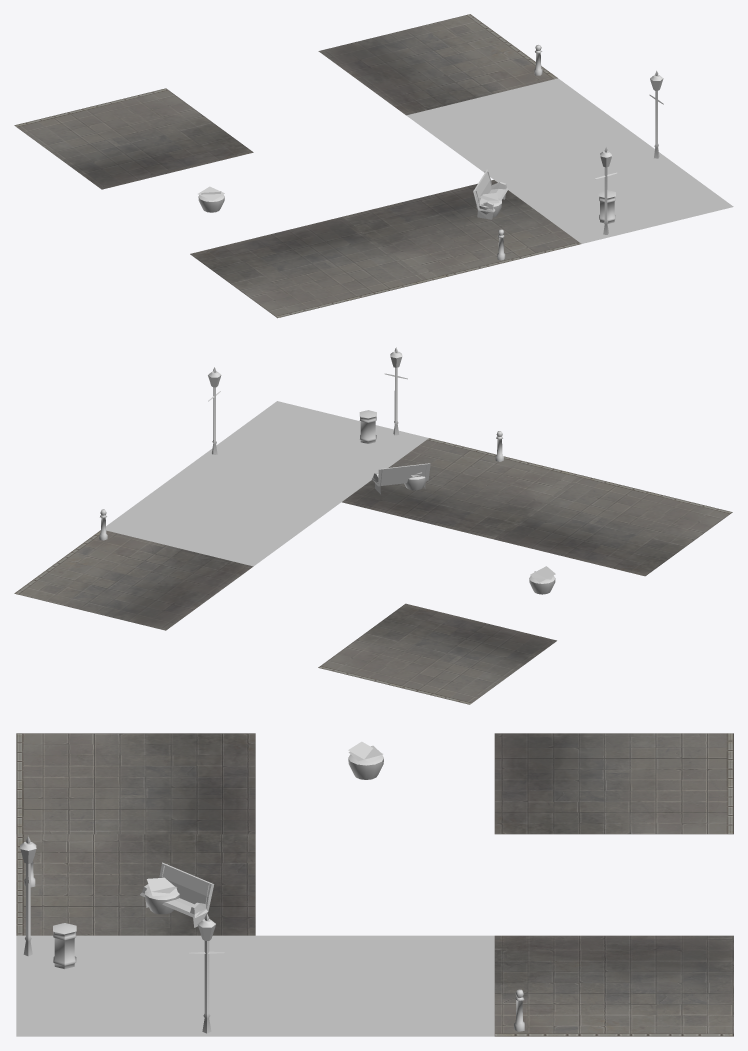
Rendered from propsonly_c1.gltf.
3 views of the same model, one above another, from view 1: azimuth 30°, elevation 25°; view 2: azimuth 150°, elevation 25°; view 3: azimuth 270°, elevation 25° (orthographic). The views are drawn at different scales.
Visible parts, largest first — view 1: file_c1_endl.002, file_c1_endl.001, file_c1_center.001, file_c1_endr.001, file_c1_corner3.001, file_c1_center3.002, prop_bench_c1, prop_flowerpot_c1_1; view 2: file_c1_endl.002, file_c1_endl.001, file_c1_center.001, file_c1_endr.001, file_c1_corner3.001, file_c1_center3.002, prop_bench_c1; view 3: file_c1_endl.001, file_c1_center.001, file_c1_endl.002, file_c1_endr.001, file_c1_corner3.001, file_c1_center3.002, prop_bench_c1, prop_flowerpot_c1_1, prop_trashcan_c1_1, prop_lightpost_c1_2, prop_flowerpot_c1_2, prop_lightpost_c1_1.
Boxes of the visible parts, x1,y1,x2,y2 form: file_c1_endl.002: [14, 88, 253, 189]; file_c1_endl.001: [190, 217, 429, 318]; file_c1_center.001: [406, 78, 645, 179]; file_c1_endr.001: [318, 14, 557, 115]; file_c1_corner3.001: [494, 142, 733, 243]; file_c1_center3.002: [342, 180, 581, 280]; prop_bench_c1: [473, 169, 508, 219]; prop_flowerpot_c1_1: [198, 186, 224, 212]; file_c1_endl.002: [318, 603, 556, 704]; file_c1_endl.001: [494, 475, 732, 576]; file_c1_center.001: [106, 465, 340, 566]; file_c1_endr.001: [14, 530, 253, 630]; file_c1_corner3.001: [190, 401, 428, 502]; file_c1_center3.002: [342, 438, 580, 539]; prop_bench_c1: [372, 463, 430, 494]; file_c1_endl.001: [16, 733, 255, 834]; file_c1_center.001: [255, 935, 494, 1036]; file_c1_endl.002: [494, 733, 733, 834]; file_c1_endr.001: [494, 935, 733, 1036]; file_c1_corner3.001: [16, 935, 255, 1036]; file_c1_center3.002: [16, 834, 255, 935]; prop_bench_c1: [140, 862, 214, 927]; prop_flowerpot_c1_1: [348, 741, 383, 779]; prop_trashcan_c1_1: [53, 923, 76, 969]; prop_lightpost_c1_2: [189, 913, 224, 1033]; prop_flowerpot_c1_2: [145, 877, 179, 914]; prop_lightpost_c1_1: [20, 836, 36, 956].
Size of what is drawn, in the model's own units: 3 by 0.5636 by 3.01.
